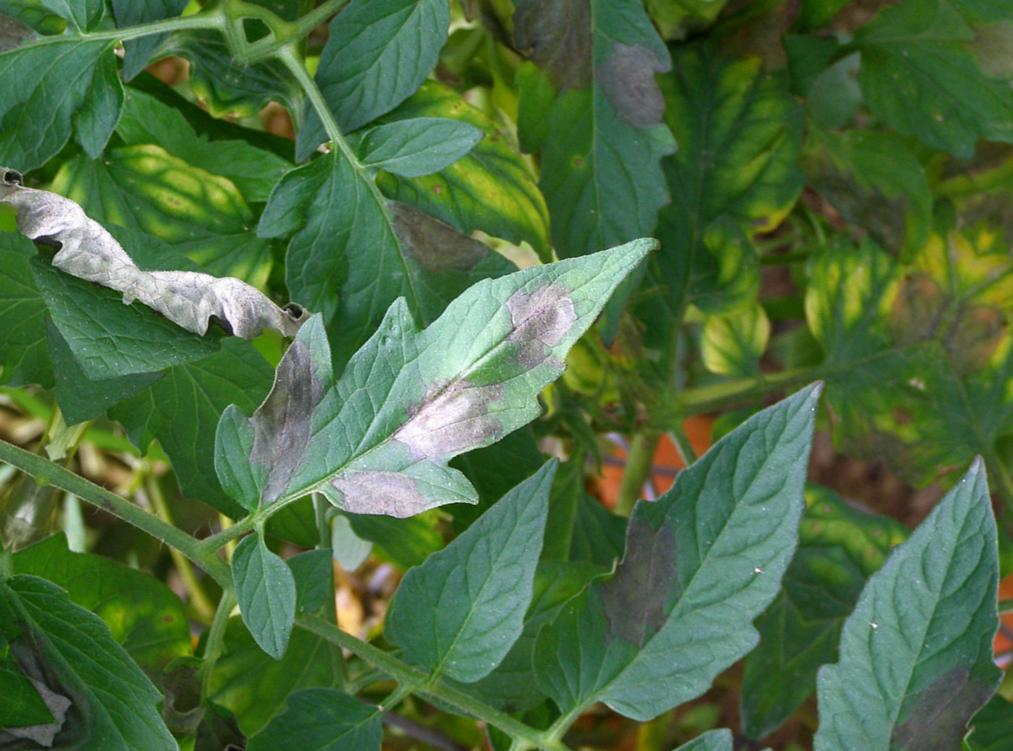Tomato leaf late blight: (205, 119, 644, 630), (524, 315, 881, 751), (395, 0, 749, 309), (0, 553, 362, 751), (479, 0, 957, 121), (272, 0, 421, 37)
